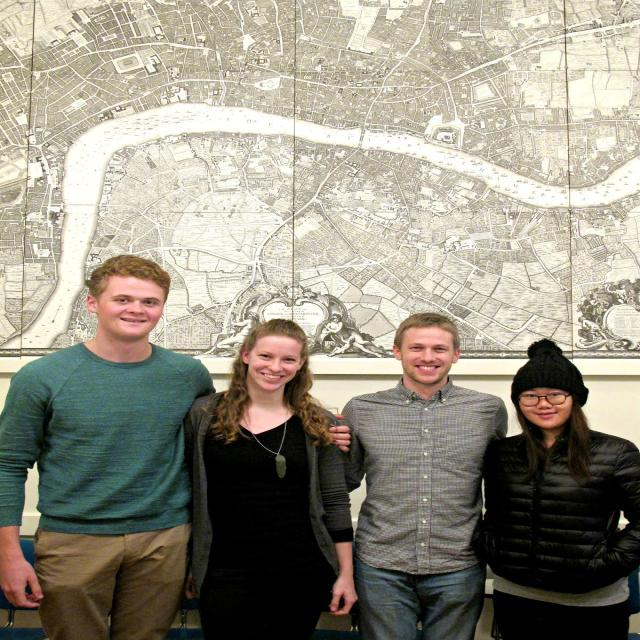body: (0, 250, 361, 640), (177, 316, 361, 640), (338, 312, 509, 640), (473, 337, 640, 639)
